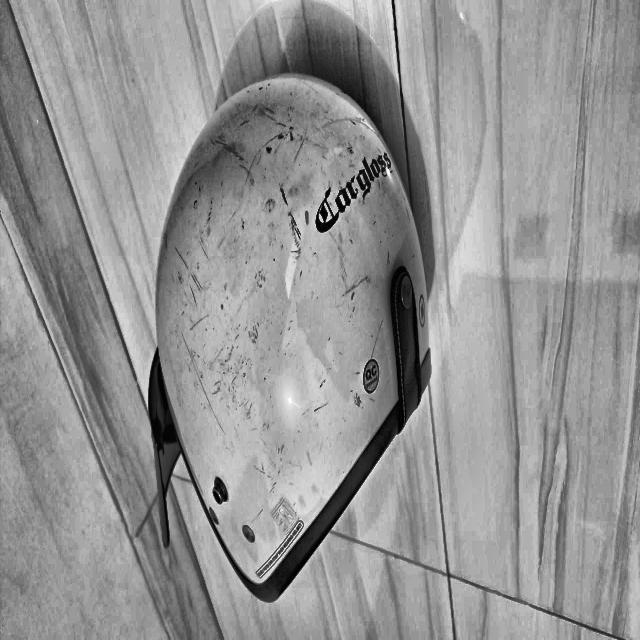Helmet: (8, 230, 353, 640)
